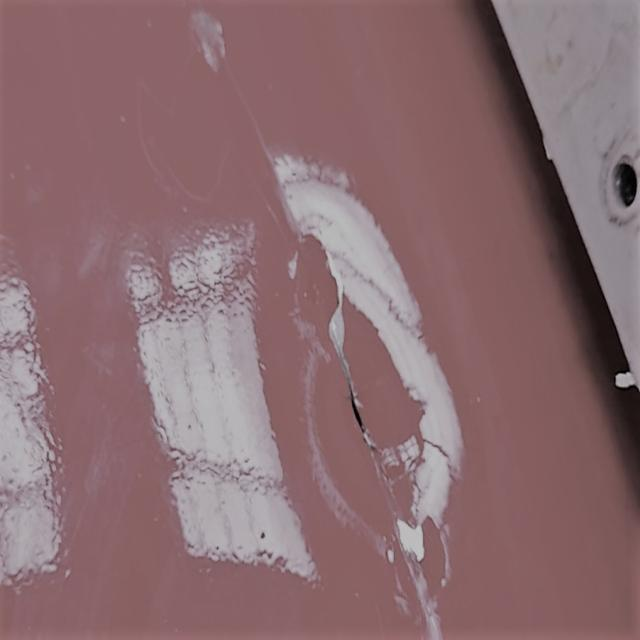Rupture: (279, 182, 413, 556)
